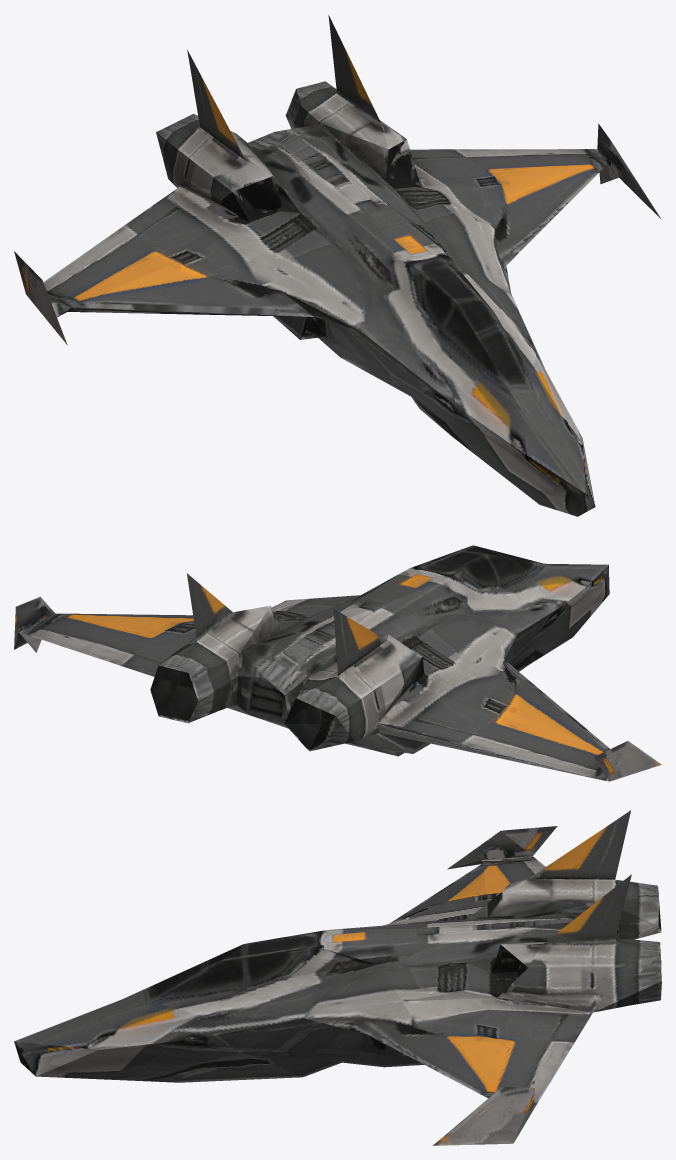
The model's file is hard-300.glb.
3 views of the same model, one above another, from view 1: azimuth 30°, elevation 25°; view 2: azimuth 150°, elevation 25°; view 3: azimuth 270°, elevation 25° (orthographic). The views are drawn at different scales.
Visible parts, largest first — view 1: Low; view 2: Low; view 3: Low.
Boxes of the visible parts, bbox=[...] form: Low: bbox=[14, 15, 661, 516]; Low: bbox=[14, 545, 661, 781]; Low: bbox=[14, 810, 661, 1145].
Bounding box in the file's own units: 0.9567 × 0.3966 × 0.9781.
Materials: 1 (1 with a texture image).
